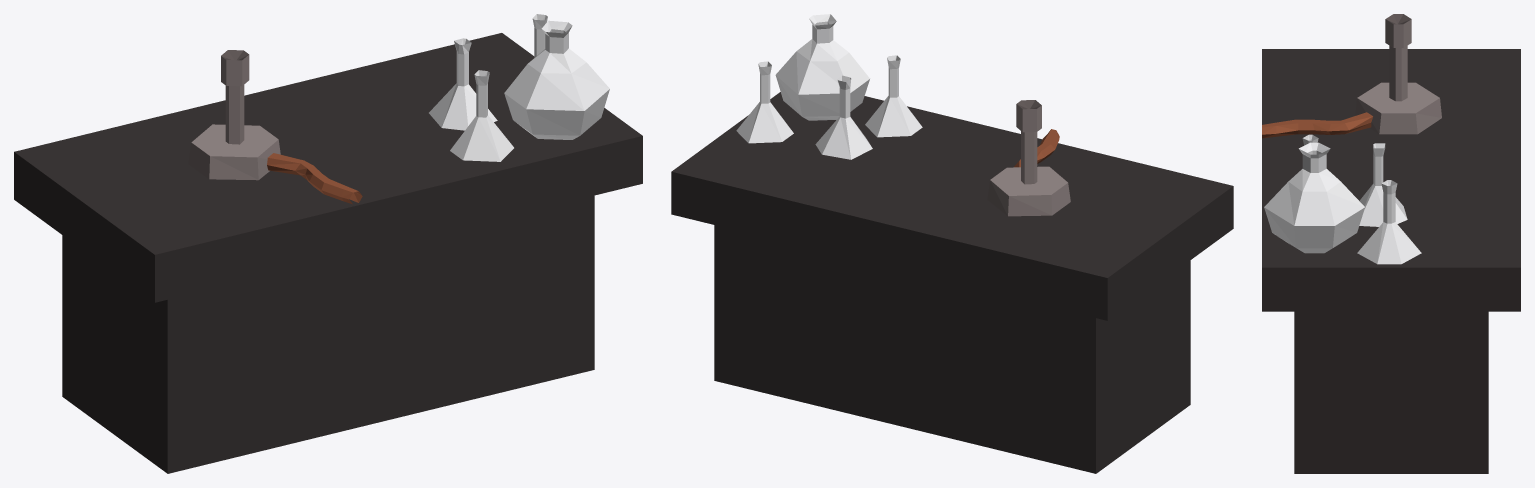
The model's file is obj_chemistry_table_2_0.obj.
The picture shows the model from 3 angles, left to right: view 1: azimuth 30°, elevation 25°; view 2: azimuth 150°, elevation 25°; view 3: azimuth 270°, elevation 25°; orthographic projection. The views are drawn at different scales.
Bounding box in the file's own units: 2 × 1.36 × 1.
